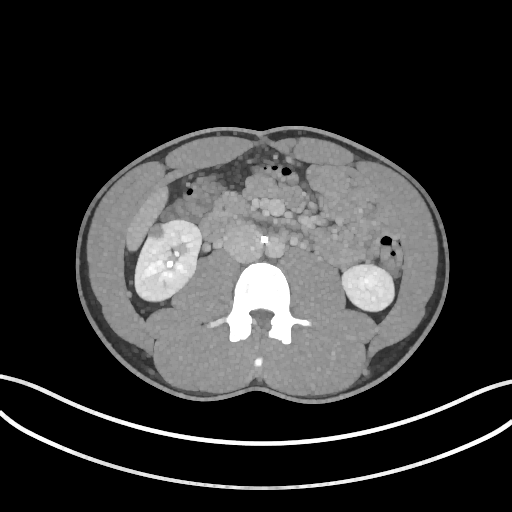Lesion: (143, 221, 166, 239)
